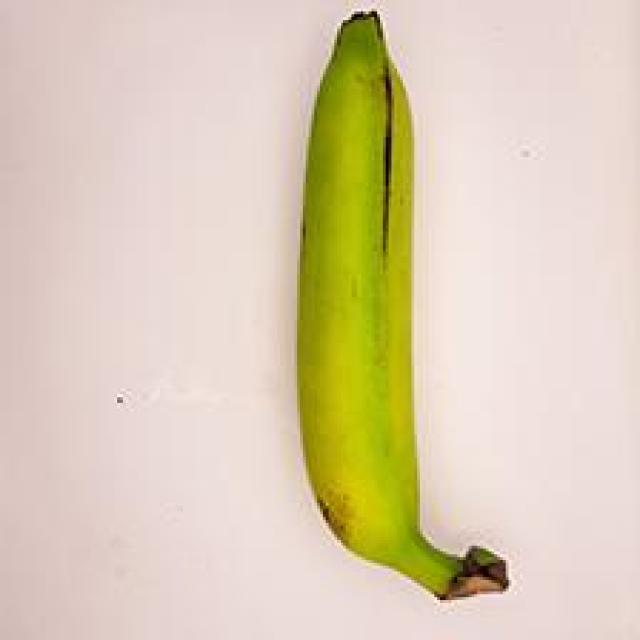Unripe: (235, 9, 520, 637)
